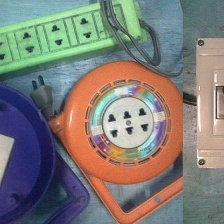three_eye_plug: (43, 53, 192, 206), (0, 76, 95, 224), (0, 0, 149, 88)
